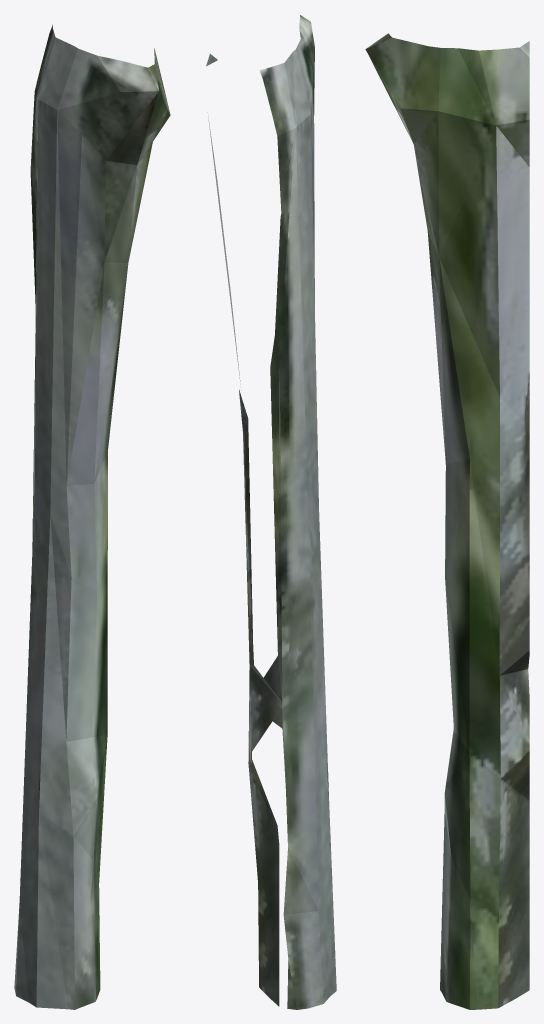
3 renders of one model, left to right at view 1: azimuth 30°, elevation 25°; view 2: azimuth 150°, elevation 25°; view 3: azimuth 270°, elevation 25°, orthographic. The views are drawn at different scales.
Bounding box in the file's own units: 0.3913 × 2.95 × 0.4471.
1 material, 1 textured.
